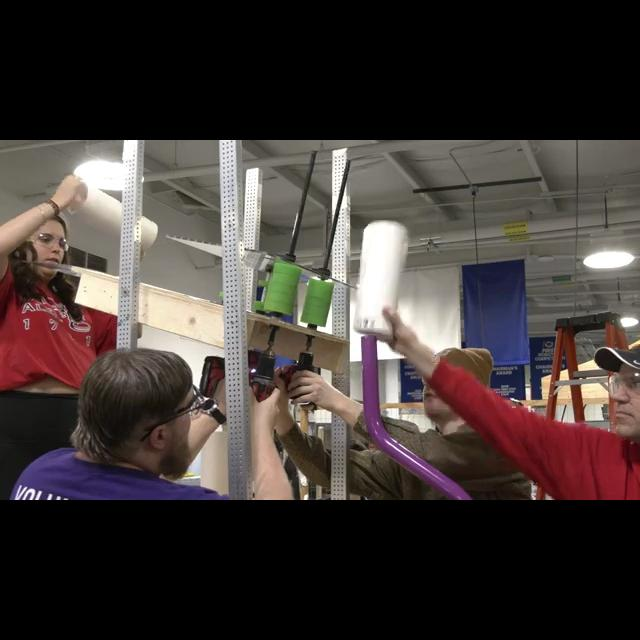CORAL: (352, 218, 408, 342), (70, 188, 158, 246)
